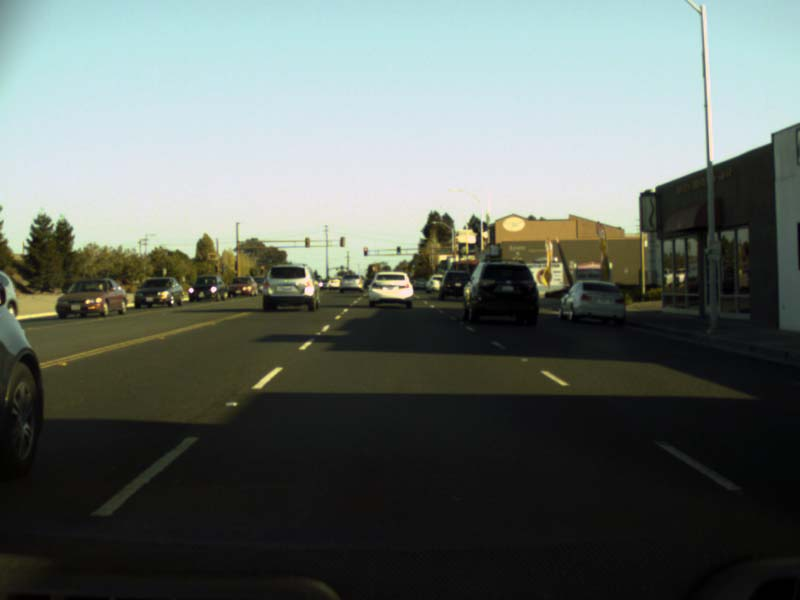Green: (396, 246, 400, 254)
Red: (363, 247, 367, 255)
